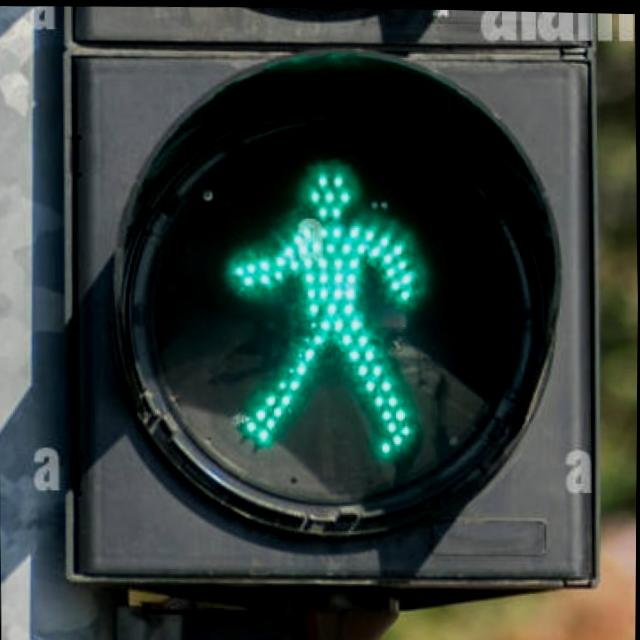green_light: (200, 127, 468, 471)
